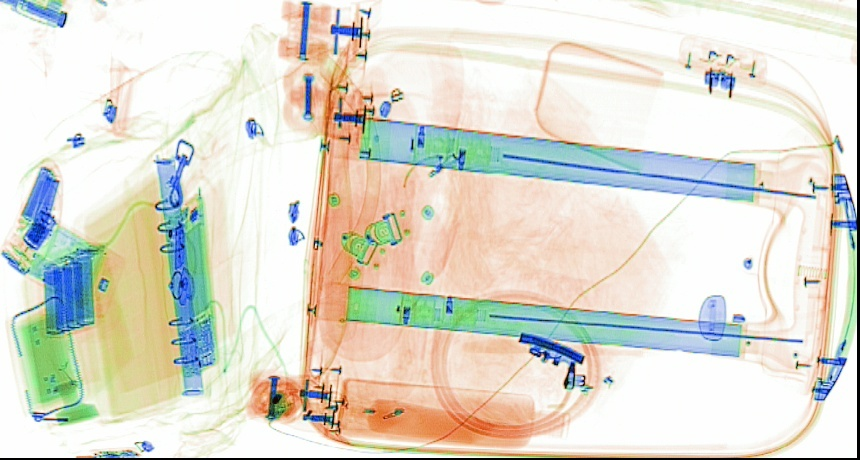powerbank: (42, 243, 99, 338)
